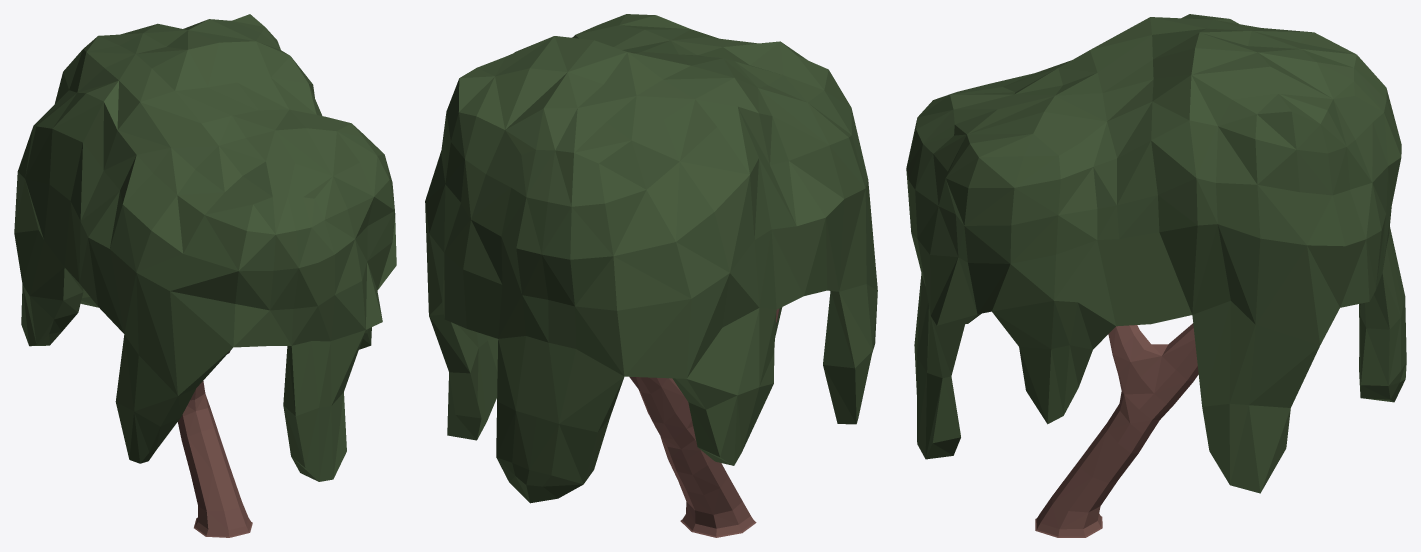
The model's file is Willow_4.glb.
The picture shows the model from 3 angles, left to right: view 1: azimuth 30°, elevation 25°; view 2: azimuth 150°, elevation 25°; view 3: azimuth 270°, elevation 25°; orthographic projection. The views are drawn at different scales.
Visible parts, largest first — view 1: Model; view 2: Model; view 3: Model.
Boxes of the visible parts, <box> form: Model: <box>14,14,396,537</box>; Model: <box>425,14,877,537</box>; Model: <box>906,14,1406,537</box>.
Bounding box in the file's own units: 219 × 339 × 304.
